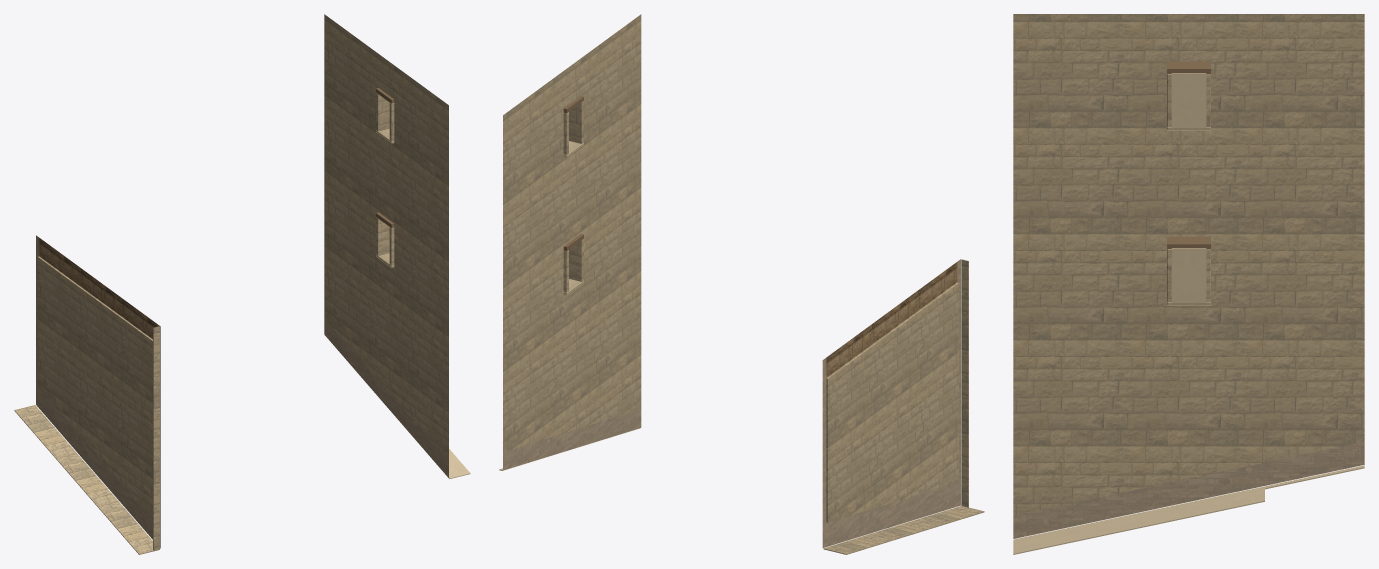
The model's file is unit-tea-stairs.glb.
The picture shows the model from 3 angles, left to right: view 1: azimuth 30°, elevation 25°; view 2: azimuth 150°, elevation 25°; view 3: azimuth 270°, elevation 25°; orthographic projection. The views are drawn at different scales.
Visible parts, largest first — view 1: bz06_dressed_sandstone.001-cast, bz06_service_stone.001-cast, ph_bz04_stone_trim_sandstone.001-cast; view 2: bz06_dressed_sandstone.001-cast, bz06_service_stone.001-cast, ph_bz04_stone_trim_sandstone.001-cast; view 3: bz06_dressed_sandstone.001-cast, bz06_service_stone.001-cast, bz06_cream_plaster.001-cast, bz04_craft_warm_timber.001-cast.
Part boxes in pixels (x1,y1,x2,y2): bz06_dressed_sandstone.001-cast: (14, 14, 448, 554); bz06_service_stone.001-cast: (36, 235, 448, 548); ph_bz04_stone_trim_sandstone.001-cast: (39, 238, 157, 339); bz06_dressed_sandstone.001-cast: (503, 14, 984, 554); bz06_service_stone.001-cast: (503, 259, 960, 547); ph_bz04_stone_trim_sandstone.001-cast: (826, 262, 957, 377); bz06_dressed_sandstone.001-cast: (1013, 14, 1364, 515); bz06_service_stone.001-cast: (1013, 441, 1364, 538); bz06_cream_plaster.001-cast: (1013, 73, 1364, 554); bz04_craft_warm_timber.001-cast: (1167, 61, 1210, 249).
Size of the model in its own units: 9.2 by 9.92 by 6.
6 materials, 6 textured.
